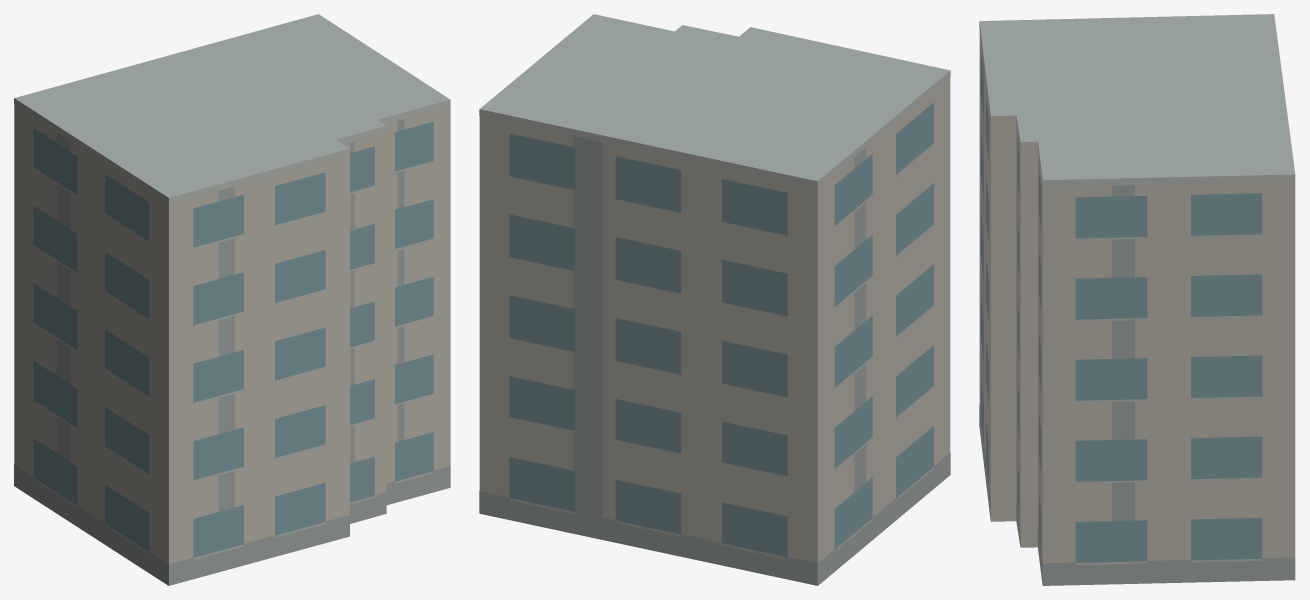
Rendered from survey-upis-32495636.glb.
3 views of the same model, side by side, from view 1: azimuth 30°, elevation 25°; view 2: azimuth 150°, elevation 25°; view 3: azimuth 270°, elevation 25° (orthographic). The views are drawn at different scales.
Visible parts, largest first — view 1: survey-upis-32495636.tmp; view 2: survey-upis-32495636.tmp; view 3: survey-upis-32495636.tmp.
Boxes of the visible parts, x1,y1,x2,y2 form: survey-upis-32495636.tmp: (14,14,450,585); survey-upis-32495636.tmp: (479,14,950,585); survey-upis-32495636.tmp: (979,14,1295,585).
Size of the model in its own units: 12.49 by 14.2 by 10.03.
